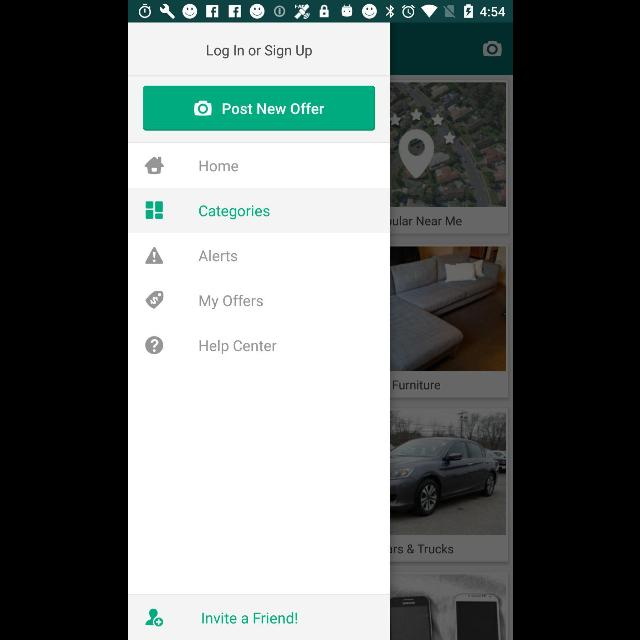icon: (144, 336, 162, 354), (145, 291, 163, 309), (145, 201, 163, 219), (144, 157, 162, 175), (144, 248, 162, 264)
panel: (128, 22, 388, 640)
text: (206, 45, 312, 59), (198, 340, 276, 354), (198, 294, 262, 310), (198, 206, 270, 220), (198, 160, 238, 172), (198, 250, 236, 262)
textbutton: (128, 594, 388, 640), (142, 86, 374, 130)
uppertaskbar: (128, 1, 512, 23)
